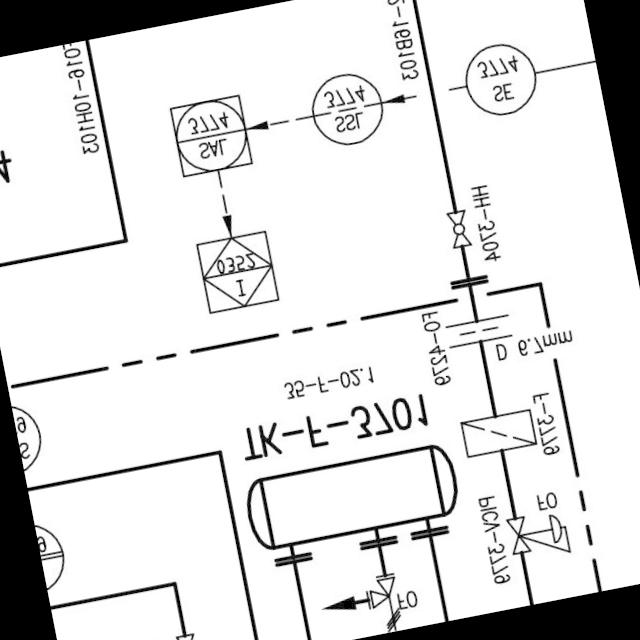BV2: (442, 207, 476, 256)
F2: (454, 404, 544, 464)
O: (436, 307, 518, 355)
PCV: (505, 504, 575, 566)
RPV: (357, 566, 408, 636)
SV: (130, 624, 208, 640)
TK: (233, 438, 468, 560)
